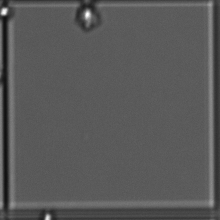Living Cell: (70, 3, 105, 30), (1, 5, 15, 21)
